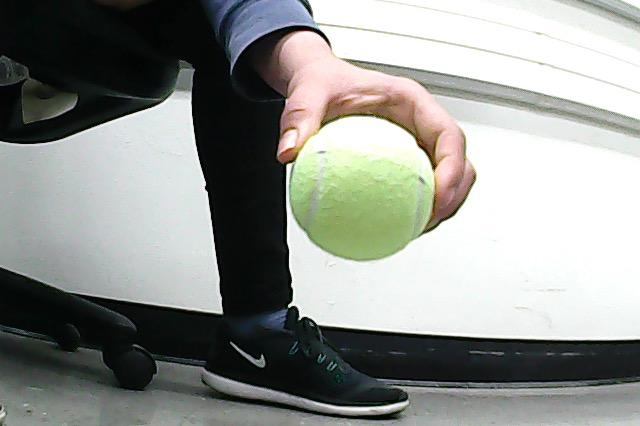ball: (291, 116, 436, 262)
